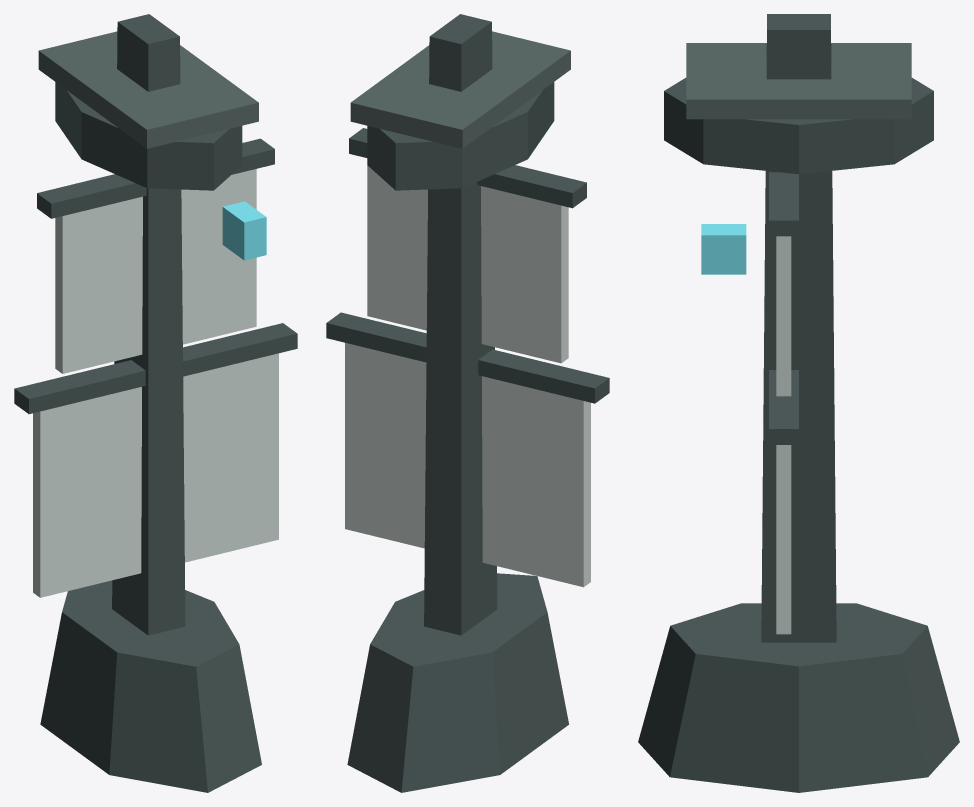
Rendered from env_r14_tall_ghost_mast.glb.
The picture shows the model from 3 angles, left to right: view 1: azimuth 30°, elevation 25°; view 2: azimuth 150°, elevation 25°; view 3: azimuth 270°, elevation 25°; orthographic projection. The views are drawn at different scales.
Parts seen in each view (by area): view 1: env_r14_tall_ghost_mast; view 2: env_r14_tall_ghost_mast; view 3: env_r14_tall_ghost_mast.
Part boxes in pixels (x1,y1,x2,y2): env_r14_tall_ghost_mast: (14,14,297,792); env_r14_tall_ghost_mast: (326,14,609,792); env_r14_tall_ghost_mast: (638,14,959,792).
Size of the model in its own units: 3.6 by 9 by 3.6.
1 material, 1 textured.
